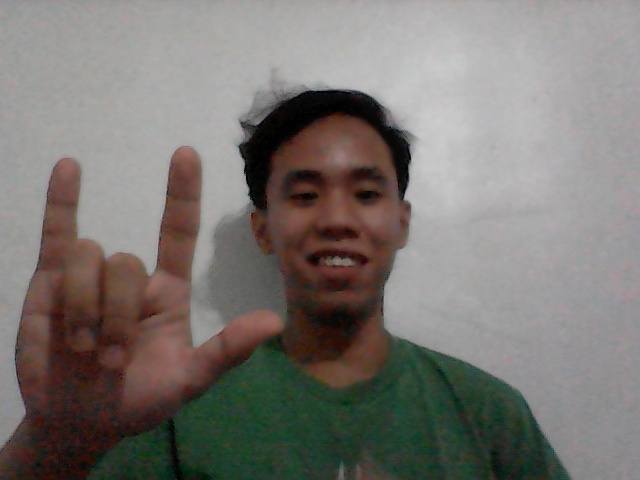I Love You: (9, 121, 304, 454)
